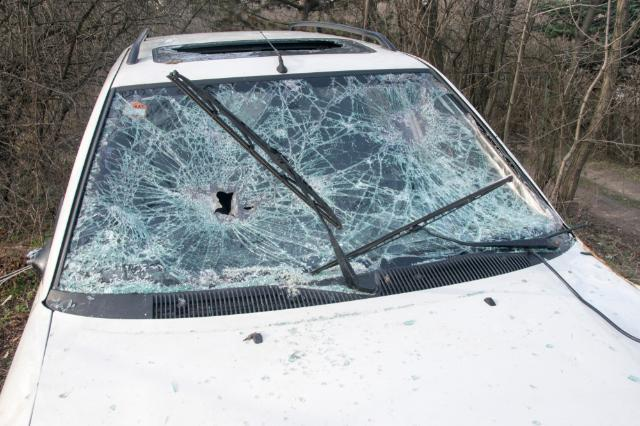glass shatter: (57, 70, 564, 295)
